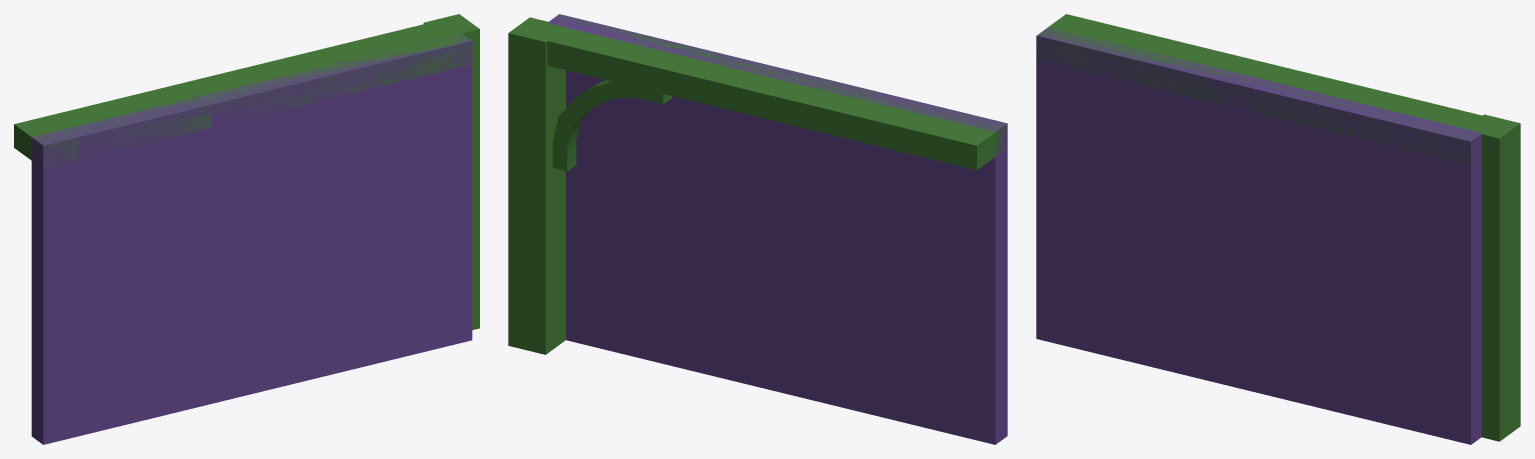
The model's file is LeftCorner.fbx.
3 views of the same model, side by side, from view 1: azimuth 30°, elevation 25°; view 2: azimuth 150°, elevation 25°; view 3: azimuth 330°, elevation 25° (orthographic). The views are drawn at different scales.
Parts seen in each view (by area): view 1: Wall3, Rafter2, Pillar2; view 2: Wall3, Rafter2, Pillar2, WallDecor4; view 3: Wall3, Rafter2, Pillar2.
Part boxes in pixels (x1,y1,x2,y2): Wall3: [31, 35, 472, 444]; Rafter2: [14, 20, 472, 168]; Pillar2: [423, 14, 479, 329]; Wall3: [547, 14, 1007, 444]; Rafter2: [534, 14, 1006, 170]; Pillar2: [508, 17, 565, 354]; WallDecor4: [552, 80, 671, 171]; Wall3: [1036, 27, 1482, 444]; Rafter2: [1036, 14, 1500, 165]; Pillar2: [1471, 114, 1520, 441].
Bounding box in the file's own units: 12.5 × 8 × 1.5.
